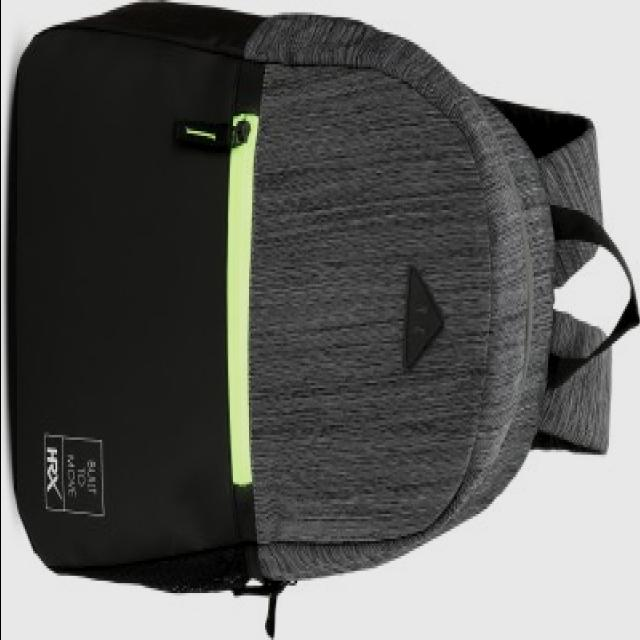backpack: (9, 1, 640, 639)
